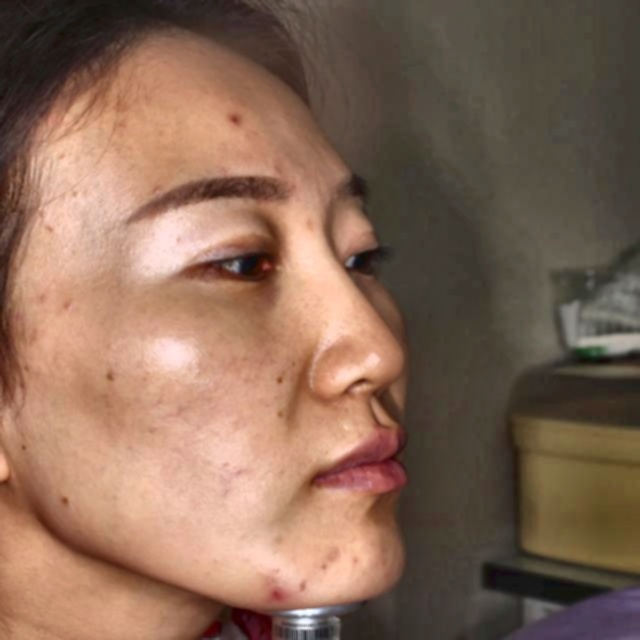comedone: (259, 577, 296, 607), (221, 110, 257, 130)
